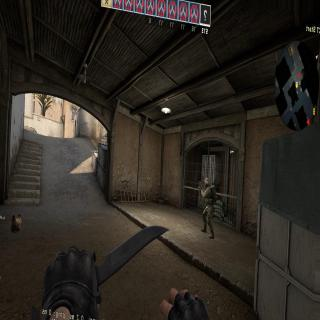CT-Body: (197, 174, 218, 238)
CT-Head: (204, 177, 210, 188)
